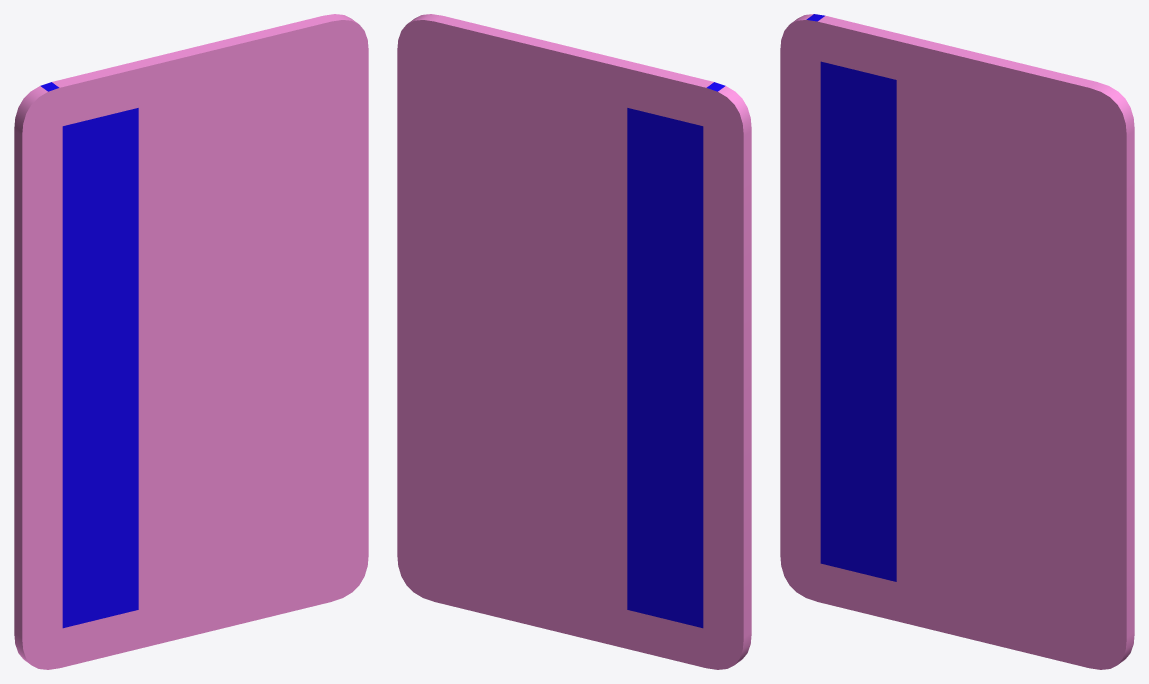
File: SM_Keycard.fbx
The picture shows the model from 3 angles, left to right: view 1: azimuth 30°, elevation 25°; view 2: azimuth 150°, elevation 25°; view 3: azimuth 330°, elevation 25°; orthographic projection.
Visible parts, largest first — view 1: SM_Keycard; view 2: SM_Keycard; view 3: SM_Keycard.
Boxes of the visible parts, x1=… form: SM_Keycard: x1=14, y1=14, x2=368, y2=669; SM_Keycard: x1=397, y1=14, x2=751, y2=669; SM_Keycard: x1=780, y1=14, x2=1134, y2=669.
Bounding box in the file's own units: 5 × 8 × 0.2.
